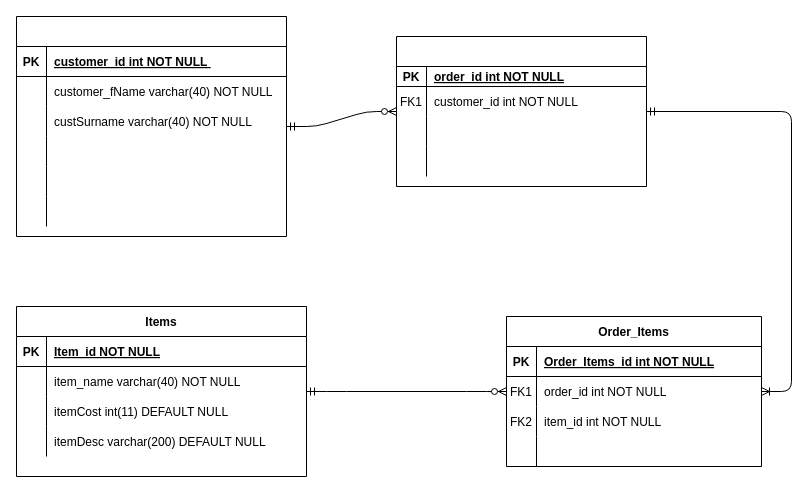
The diagram is 808 pixels wide and 493 high, and some of its shapes have lost their labels. Each missing label, with the box of its shape:
Customers: (16, 16, 286, 236)
Orders: (396, 36, 646, 186)
